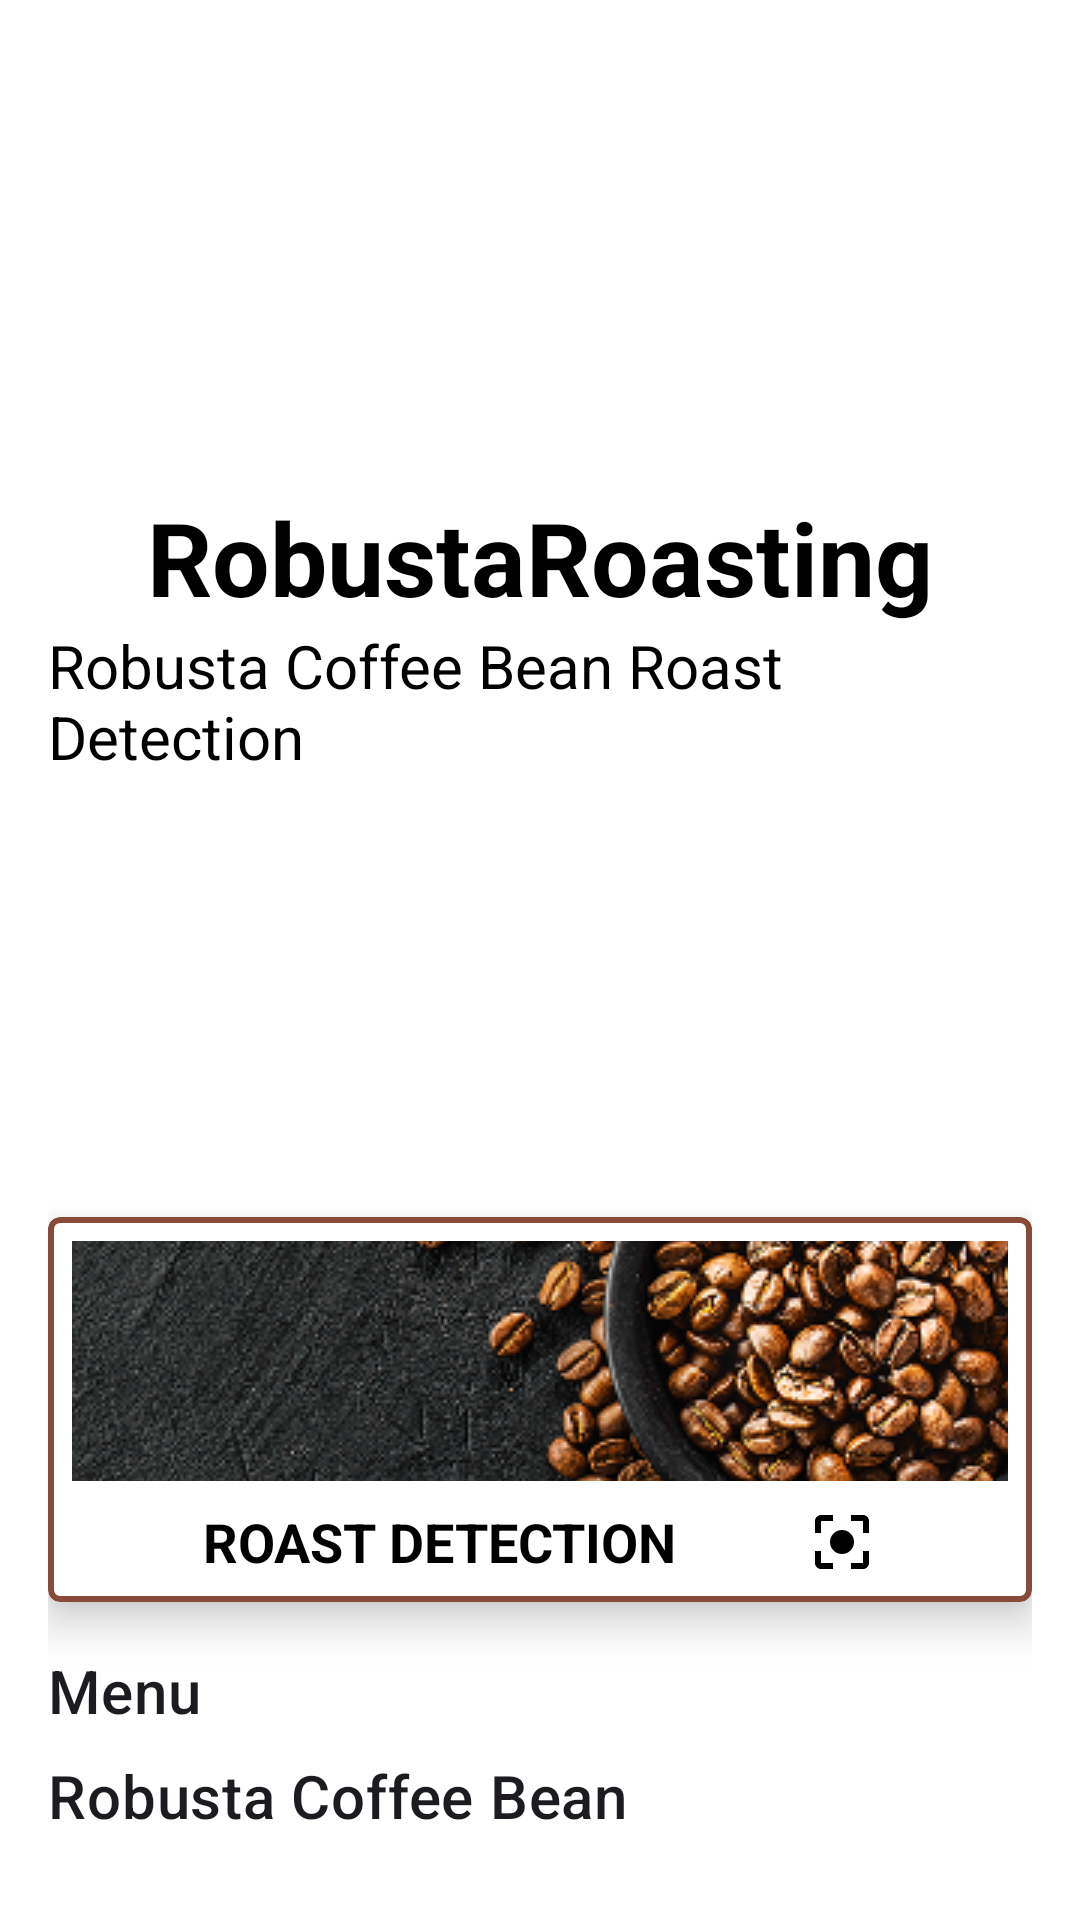

Locate icon controls on the screen. Image size 1080x1920, boxes as detection(x1, y1, x2, y2).
scan: detection(815, 1515, 869, 1569)
